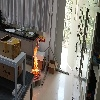fire: (31, 38, 39, 79)
